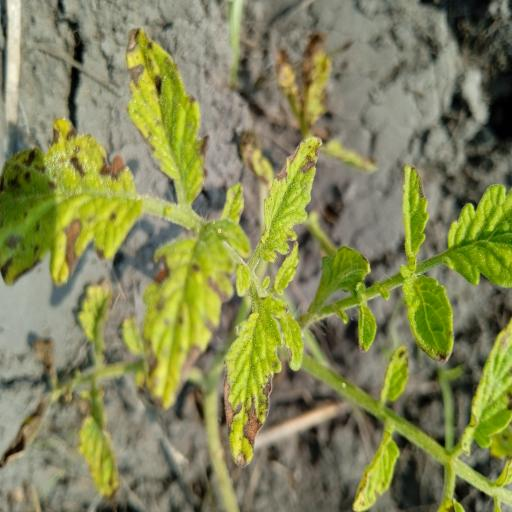Tomato_Brown_Spots: (0, 116, 145, 294), (138, 210, 234, 418), (124, 26, 214, 210), (227, 294, 285, 466), (254, 128, 326, 264)
